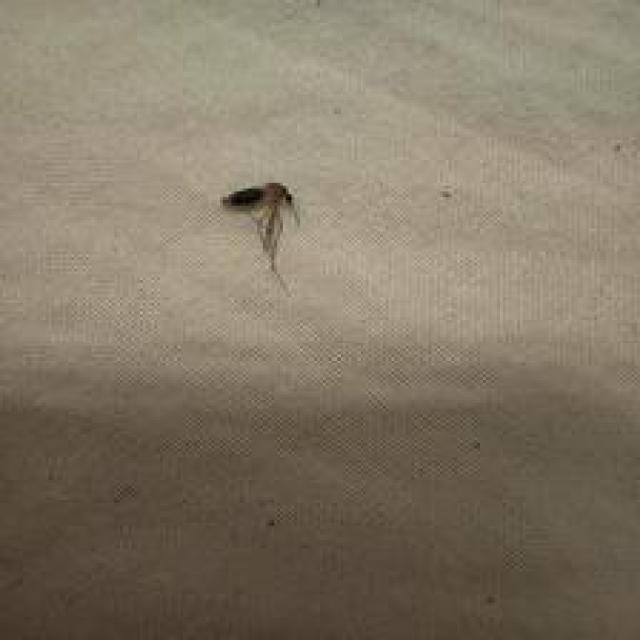Culex: (220, 180, 300, 291)
